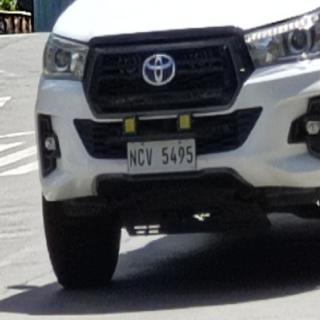license: (129, 139, 197, 174)
